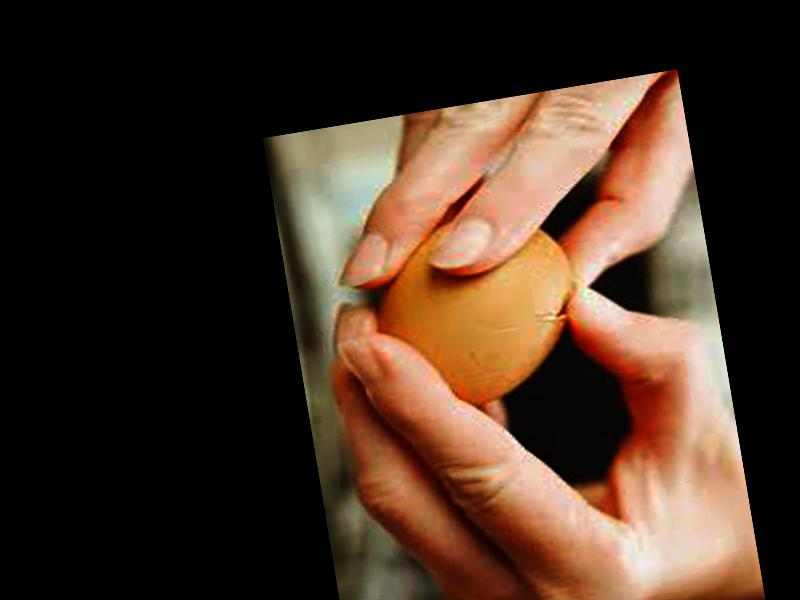Eggs: (359, 202, 592, 418)
